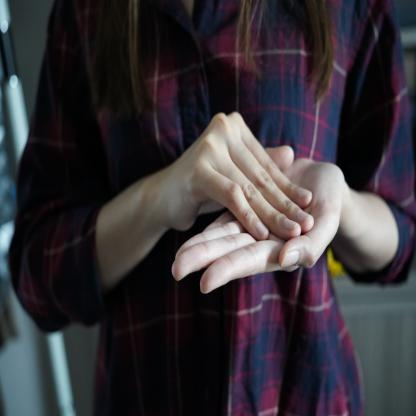Love: (142, 104, 367, 312)
